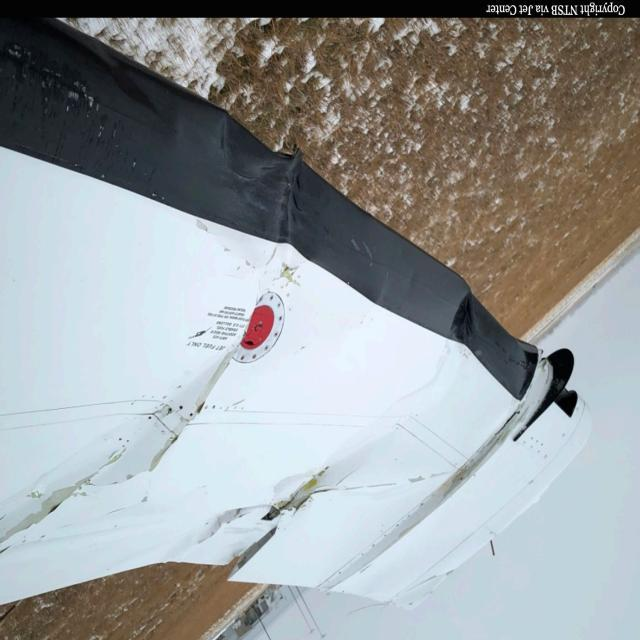crack: (1, 450, 138, 554), (218, 468, 333, 586), (150, 360, 233, 480)
